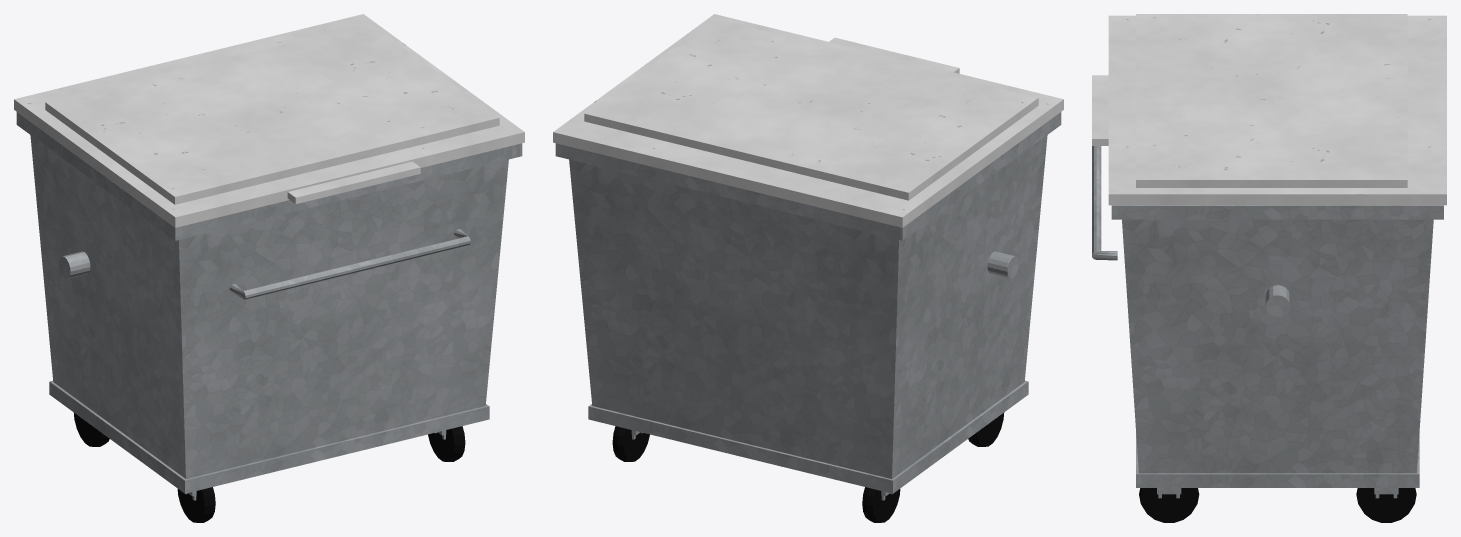
The model's file is WasteContainer1100L.obj.
3 views of the same model, side by side, from view 1: azimuth 30°, elevation 25°; view 2: azimuth 150°, elevation 25°; view 3: azimuth 270°, elevation 25° (orthographic). The views are drawn at different scales.
Visible parts, largest first — view 1: Galvanised, PlasticLid, Rubber; view 2: Galvanised, PlasticLid, Rubber; view 3: Galvanised, PlasticLid, Rubber.
Boxes of the visible parts, x1,y1,x2,y2 form: Galvanised: [16, 112, 522, 500]; PlasticLid: [14, 14, 524, 227]; Rubber: [73, 412, 465, 522]; Galvanised: [555, 112, 1061, 500]; PlasticLid: [553, 14, 1063, 227]; Rubber: [612, 412, 1004, 522]; Galvanised: [1092, 146, 1443, 498]; PlasticLid: [1092, 14, 1446, 205]; Rubber: [1139, 488, 1416, 522].
Bounding box in the file's own units: 1.56 × 1.32 × 1.18.
3 materials, 2 textured.
